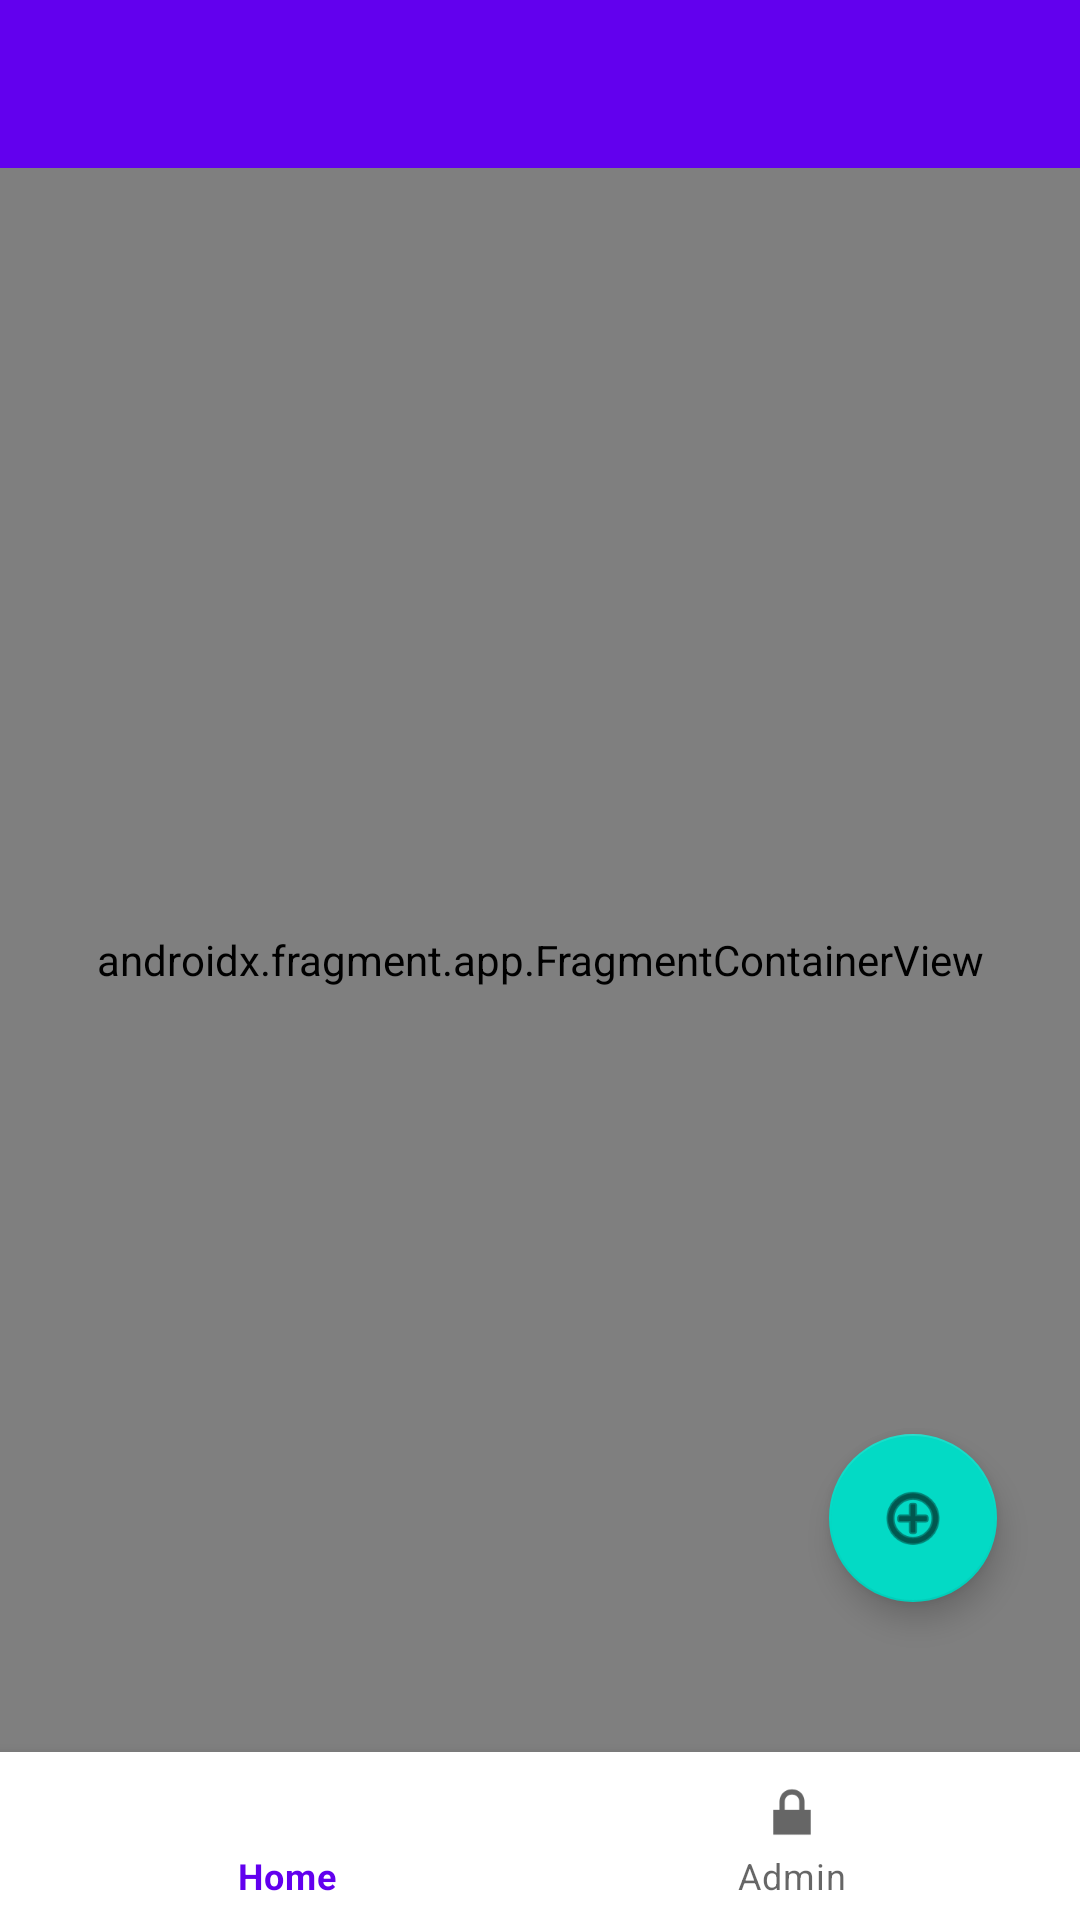

Point at icon controls on the screen. Image size 1080*1920, points as [x,y].
add: [913,1518]
